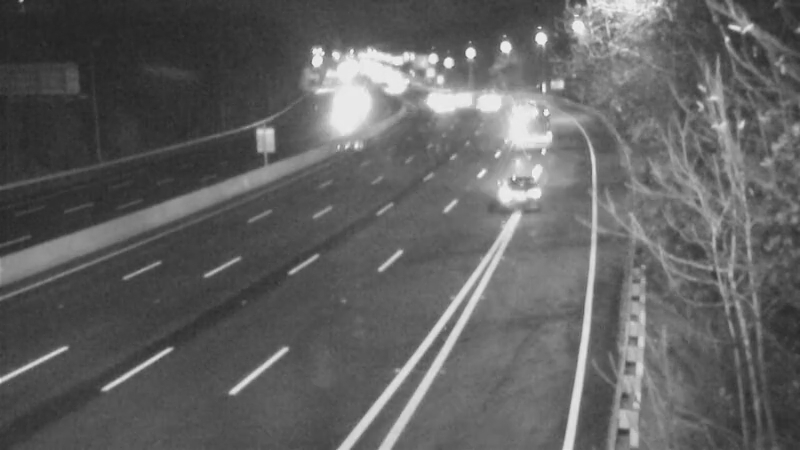vehicle: (483, 152, 563, 232), (364, 64, 414, 114), (438, 69, 488, 119), (411, 68, 461, 118), (461, 76, 511, 126), (502, 95, 552, 145), (315, 87, 365, 137)
